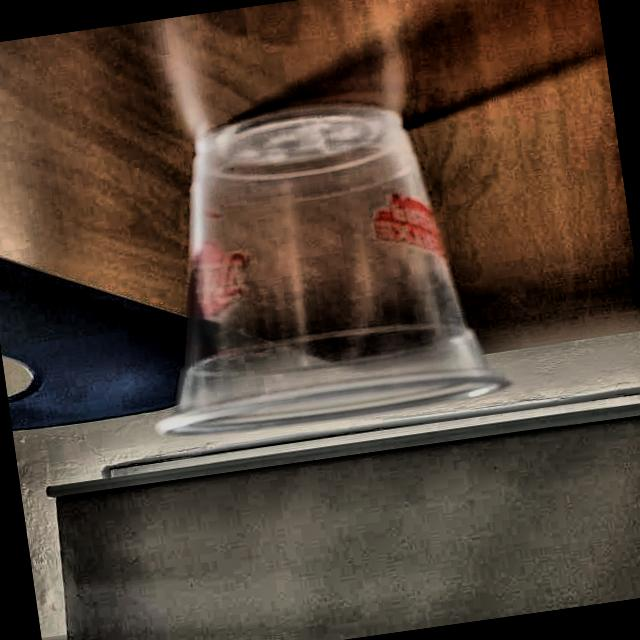plastic cup: (114, 84, 516, 448)
